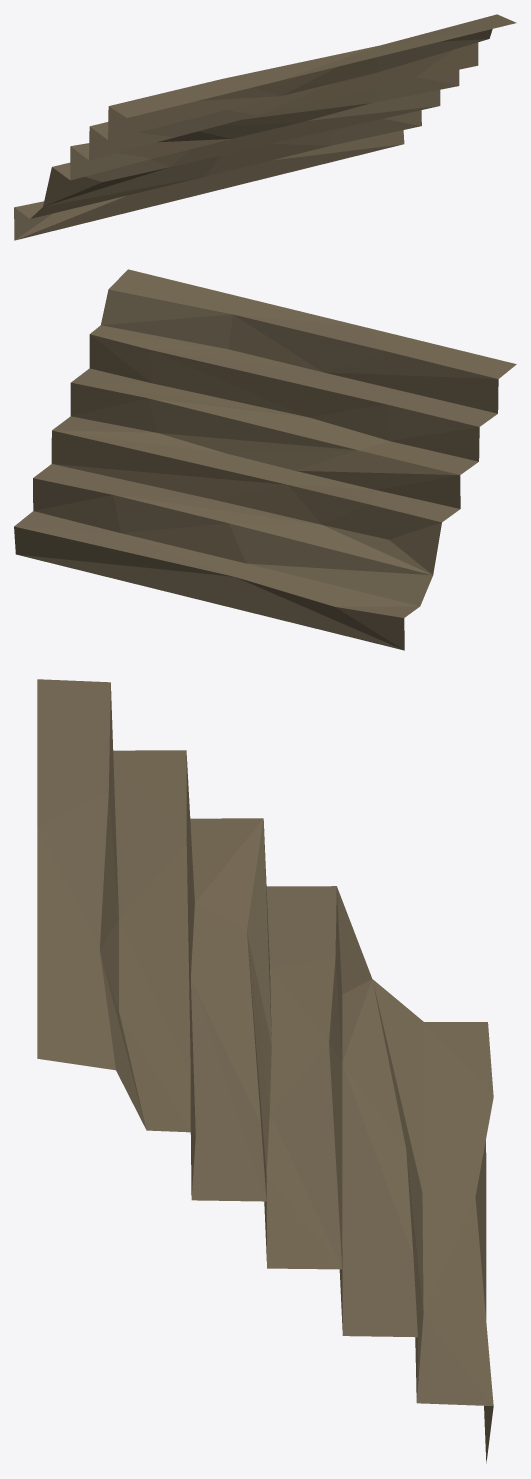
Rendered from Stairs_Small_low.fbx.
3 renders of one model, top to bottom at view 1: azimuth 30°, elevation 25°; view 2: azimuth 150°, elevation 25°; view 3: azimuth 270°, elevation 25°, orthographic. The views are drawn at different scales.
Visible parts, largest first — view 1: Stairs_Small_low; view 2: Stairs_Small_low; view 3: Stairs_Small_low.
Part boxes in pixels (x1,y1,x2,y2): Stairs_Small_low: (14,14,516,240); Stairs_Small_low: (14,269,516,650); Stairs_Small_low: (37,679,493,1463).
Size of the model in its own units: 2 by 1 by 1.02.
